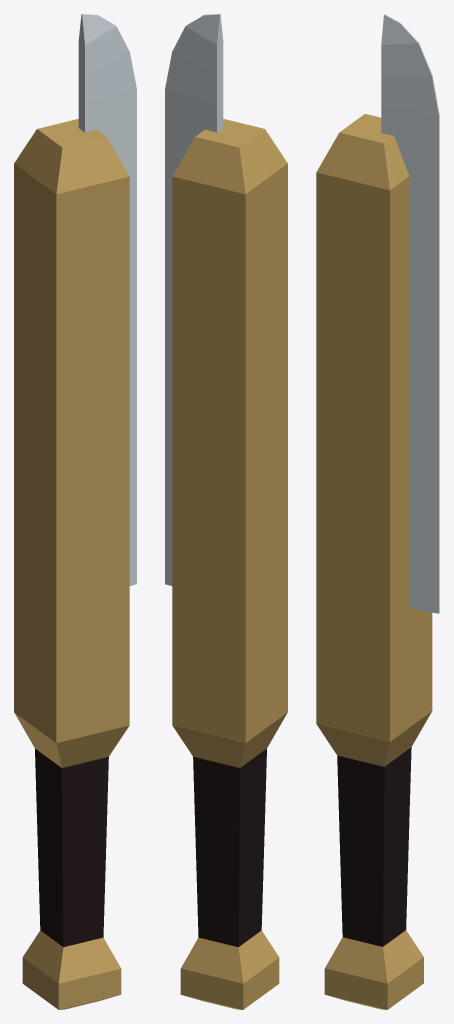
Rendered from Machete Bat.fbx.
3 views of the same model, side by side, from view 1: azimuth 30°, elevation 25°; view 2: azimuth 150°, elevation 25°; view 3: azimuth 330°, elevation 25° (orthographic).
Parts seen in each view (by area): view 1: Cube.008; view 2: Cube.008; view 3: Cube.008.
Boxes of the visible parts, box(x1,y1,x2,y2) form: Cube.008: box(14, 14, 136, 1009); Cube.008: box(165, 14, 287, 1009); Cube.008: box(316, 14, 439, 1009).
Size of the model in its own units: 11.4 by 106 by 8.25.
